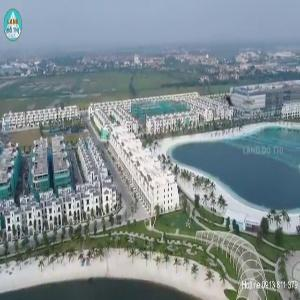drone: (205, 78, 257, 130)
